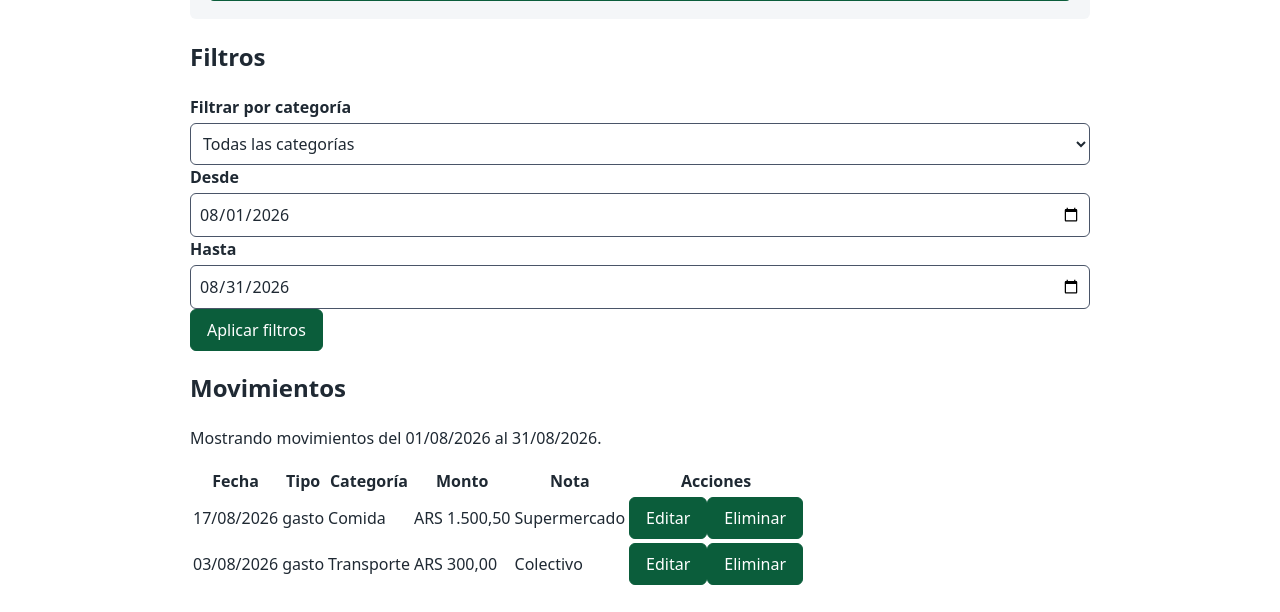
Test: FiltrosMovimientos › Filtros_ConRechazoDelServidor_MuestraElMensajePorCampo
(page scrolled)
Expected: the text "Supermercado" is shown, [514, 496, 626, 540]
Type "2026-07-01" into the date field labelled "Desde" at x=640, y=214, box [190, 192, 1090, 236]
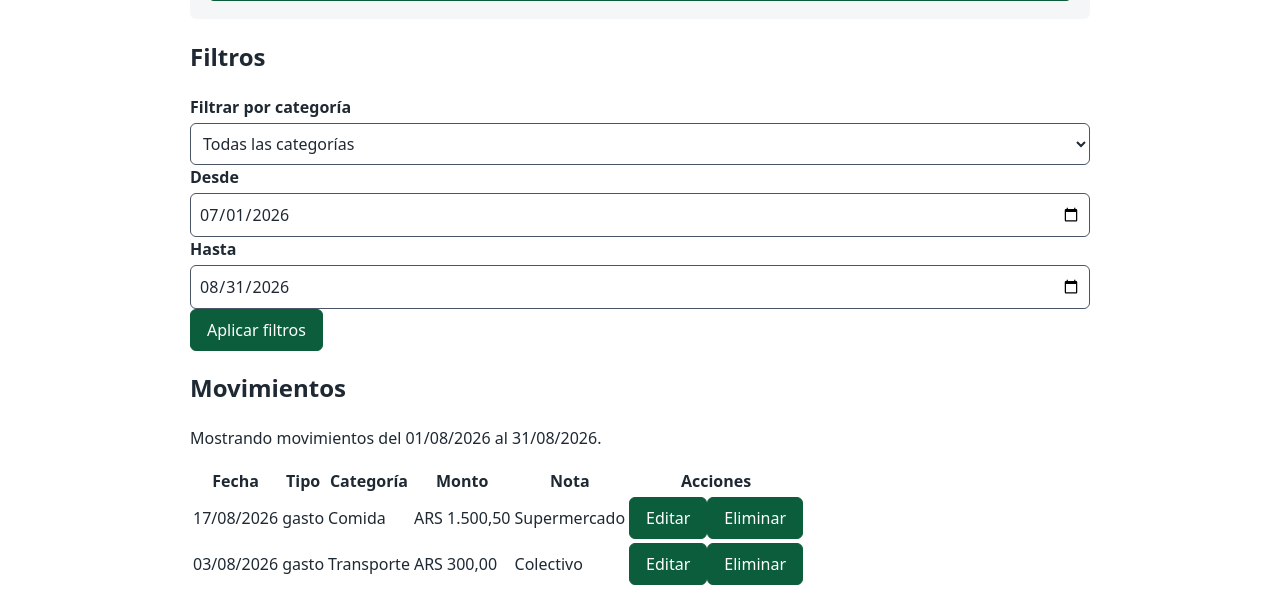
Type "2026-07-31" into the date field labelled "Hasta" at x=640, y=286, box [190, 264, 1090, 308]
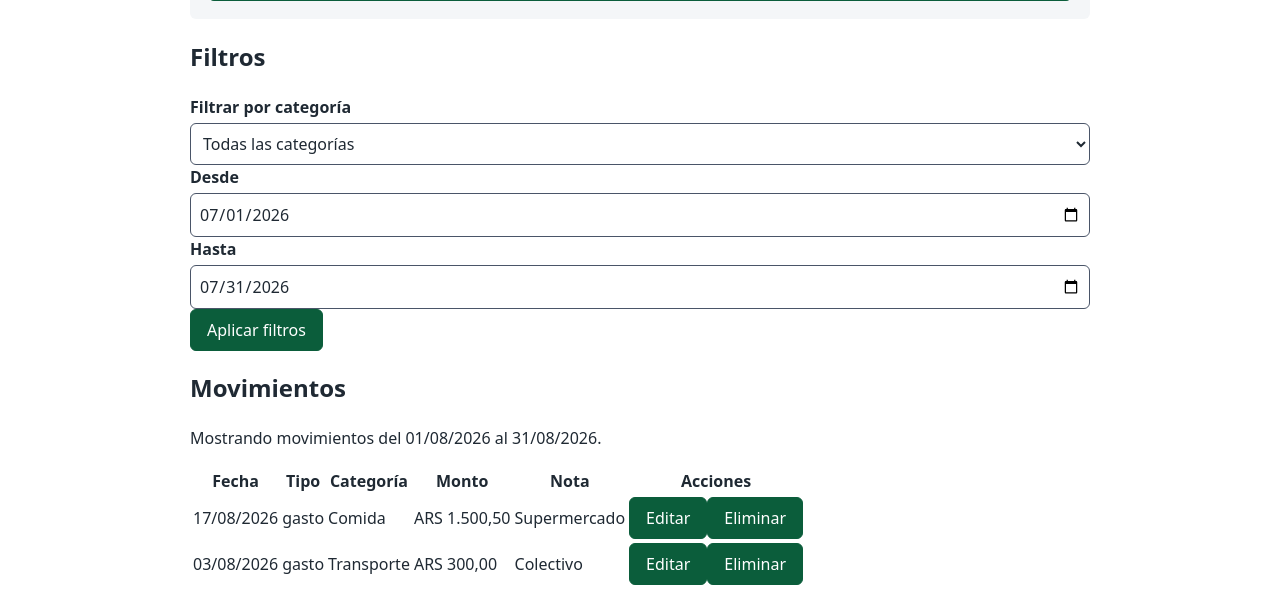
Click the button "Aplicar filtros" at x=256, y=330, box [190, 308, 323, 350]
(page scrolled)
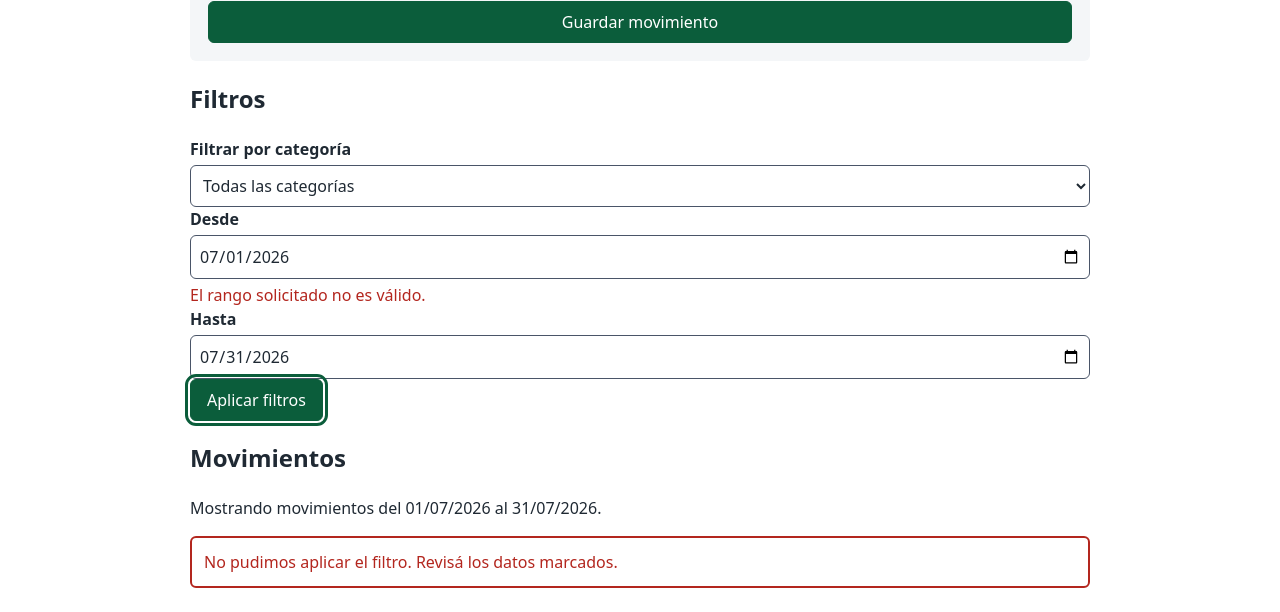
Expected: the text "El rango solicitado no es válido." is shown, [190, 284, 426, 306]
